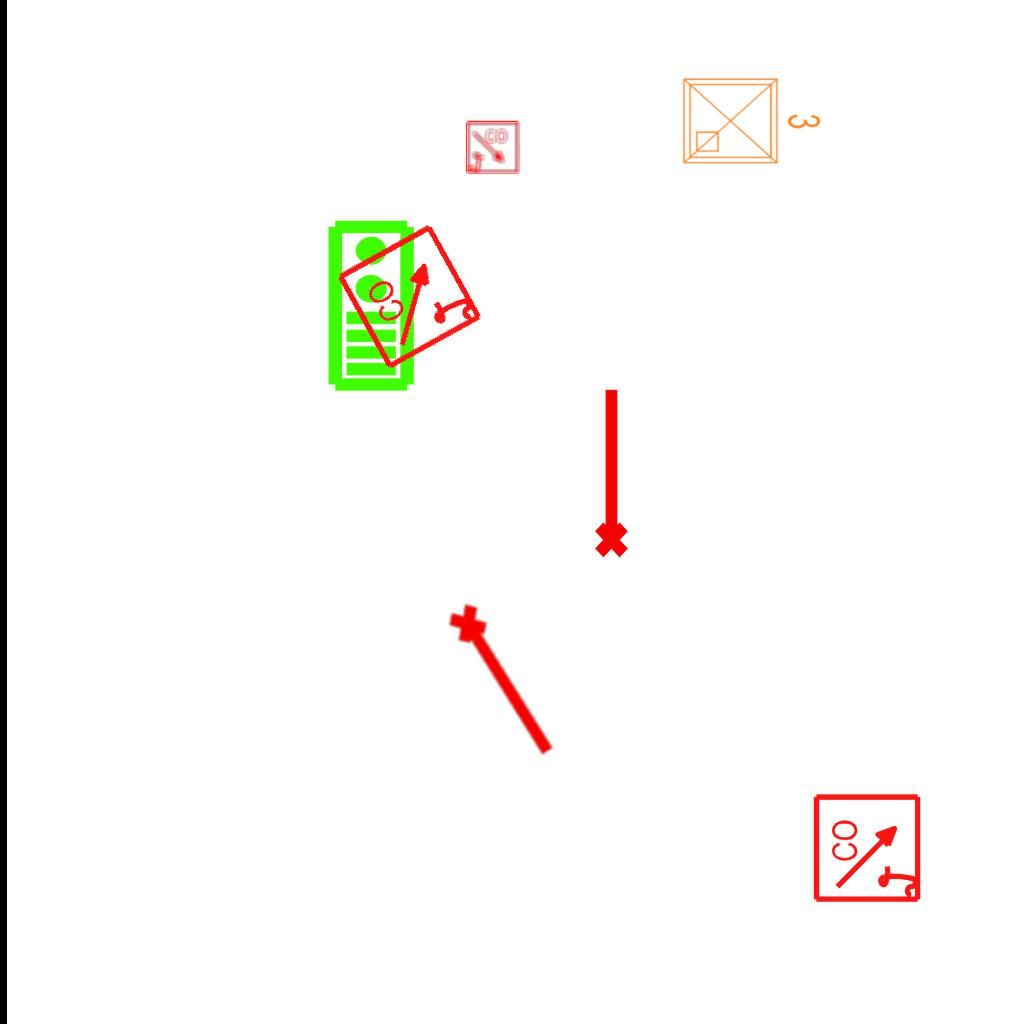ASR_Ansaugoeffnung: (439, 593, 573, 767), (586, 384, 632, 560)
Einbaudownlights_LED_Konferenzraeume: (676, 67, 826, 171)
Gegensprechanlage_mit_Video: (322, 217, 417, 393)
ROA_Rauchmelder_optisch_mit_Signalgeber_(Sockelsirene): (333, 218, 488, 373), (812, 791, 925, 904), (465, 120, 521, 176)
